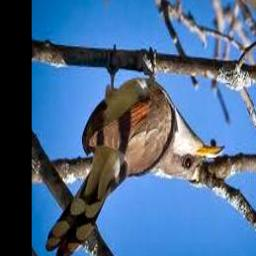Cuckoo: (46, 66, 225, 256)
